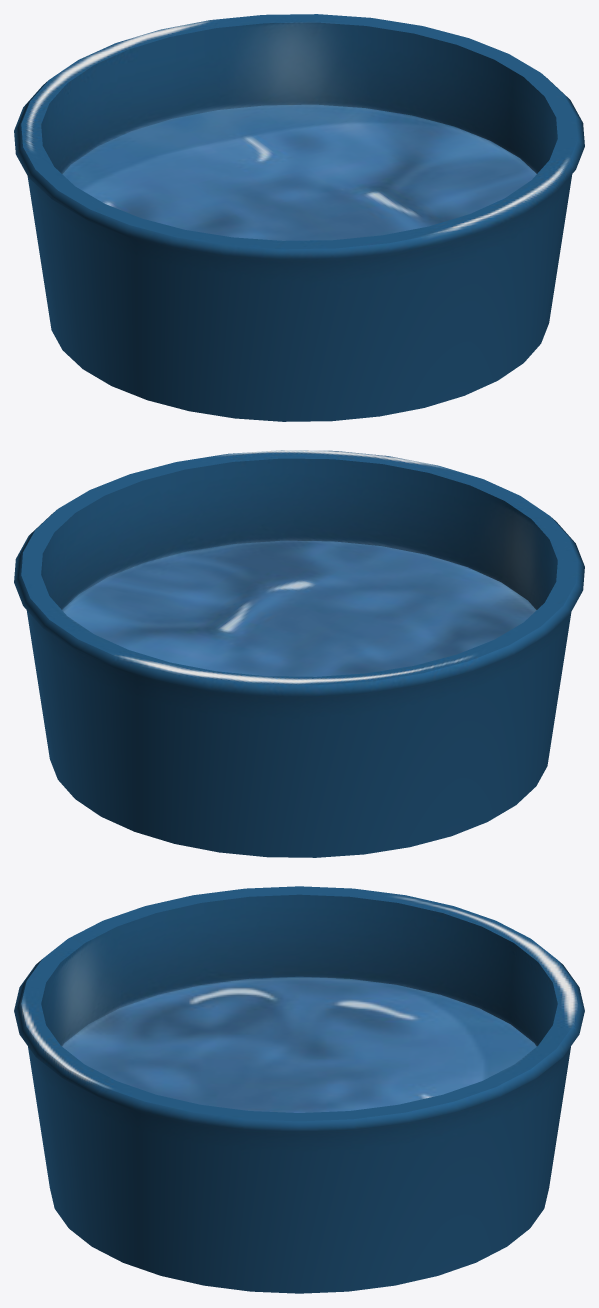
File: Boot_Washing_Bucket.fbx
3 views of the same model, one above another, from view 1: azimuth 30°, elevation 25°; view 2: azimuth 150°, elevation 25°; view 3: azimuth 270°, elevation 25° (orthographic).
Visible parts, largest first — view 1: pPipe1; view 2: pPipe1; view 3: pPipe1.
Boxes of the visible parts, x1=… form: pPipe1: x1=14, y1=14, x2=584, y2=421; pPipe1: x1=14, y1=450, x2=584, y2=857; pPipe1: x1=14, y1=886, x2=584, y2=1293.
Bounding box in the file's own units: 0.7632 × 0.2718 × 0.7632.
